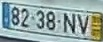2: (20, 8, 30, 28)
3: (35, 9, 45, 30)
8: (45, 10, 55, 31), (10, 6, 20, 26)
N: (62, 12, 76, 34)
V: (76, 13, 90, 35)
